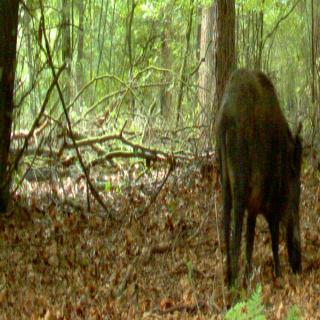Pig: (201, 59, 315, 275)
